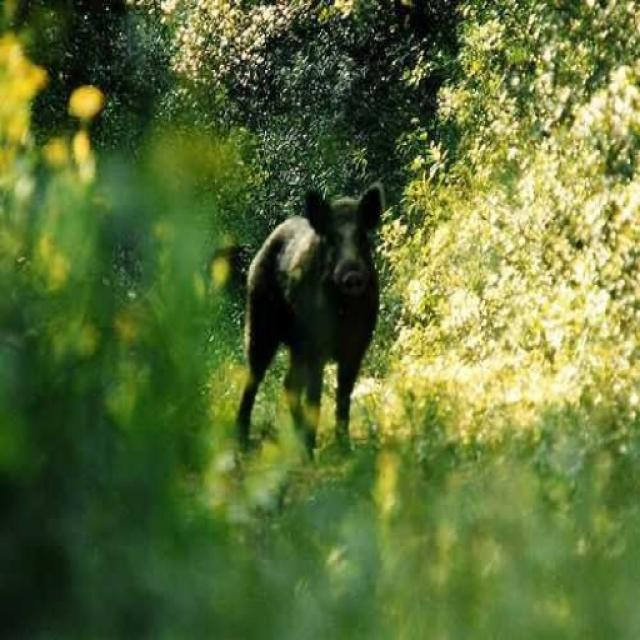pig: (199, 202, 432, 478)
